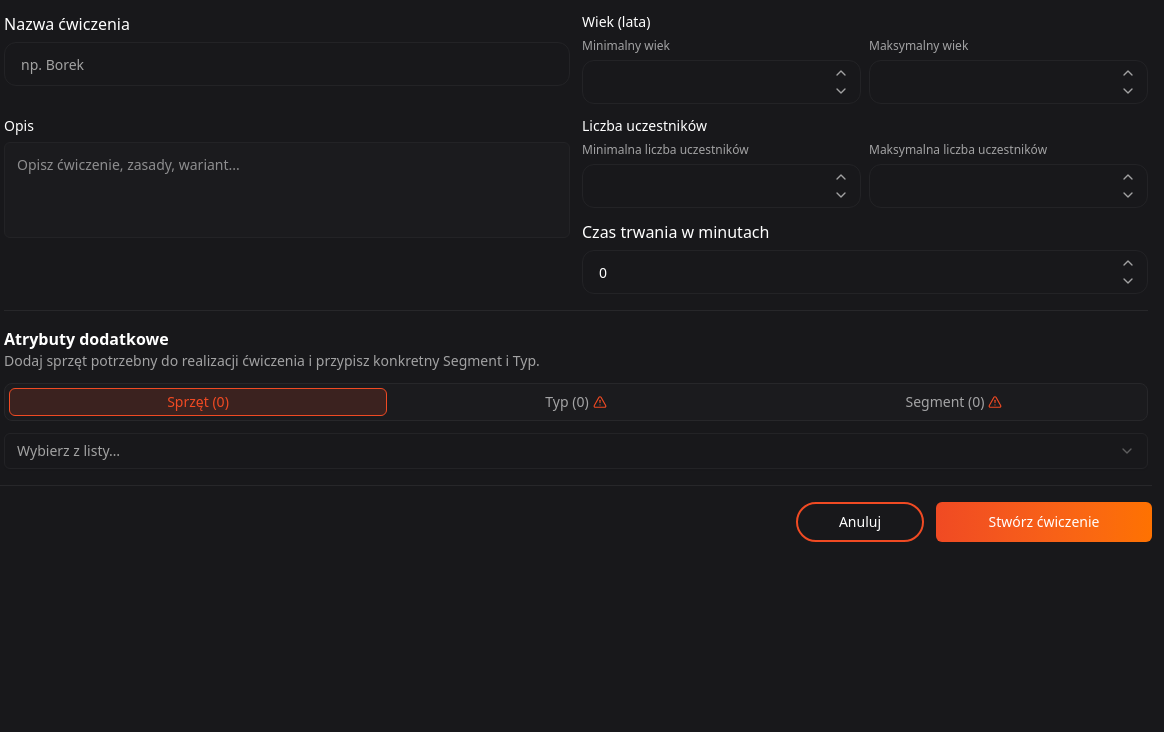
ExerciseForm › shows field errors and does not submit an incomplete form
Click the button "Stwórz ćwiczenie".
click(1044, 522)  # box left=936, top=502, right=1152, bottom=542
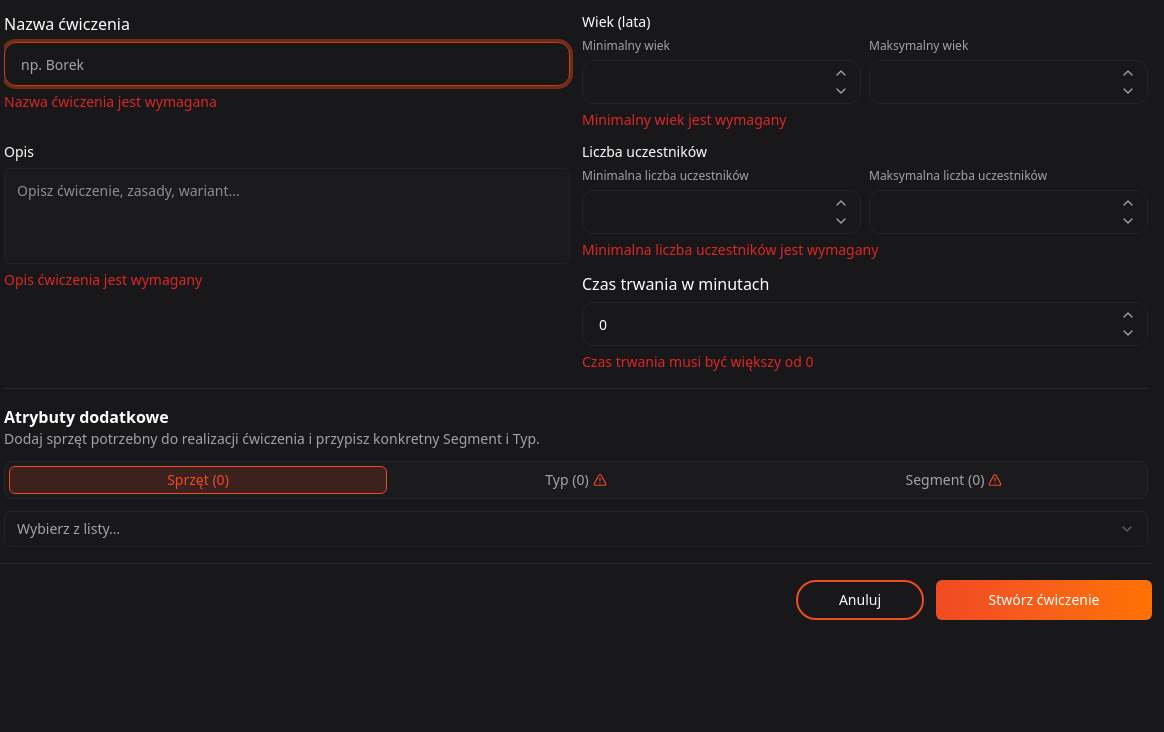
Now the text "Nazwa ćwiczenia jest wymagana" is shown, box left=4, top=92, right=217, bottom=111
Now the text "Opis ćwiczenia jest wymagany" is shown, box left=4, top=270, right=202, bottom=289
